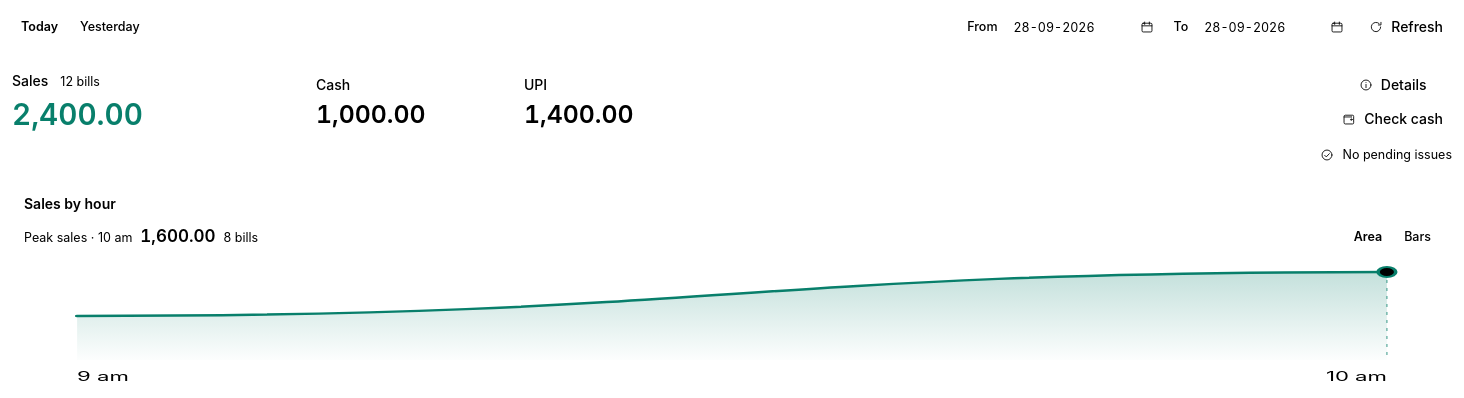
Test case: keeps the chart mounted during refresh and replaces figures when the request finishes
Expected: the text "2,400.00" is shown, 12,96 -> 143,132
Click the button "Bars".
click(1418, 237)  # box 1395,222 -> 1440,252
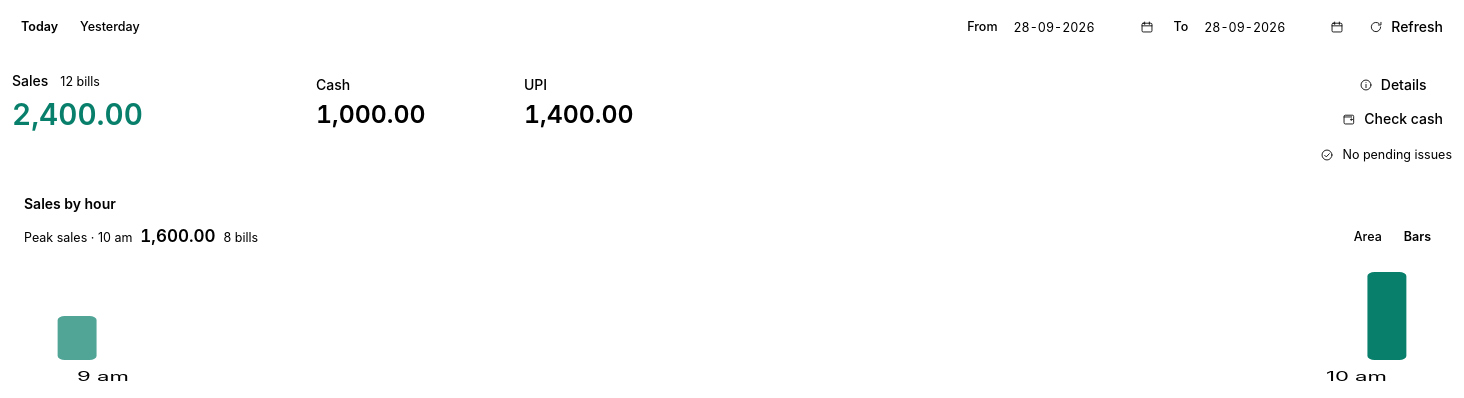
Click the button "Refresh".
click(1406, 27)  # box 1360,12 -> 1452,42
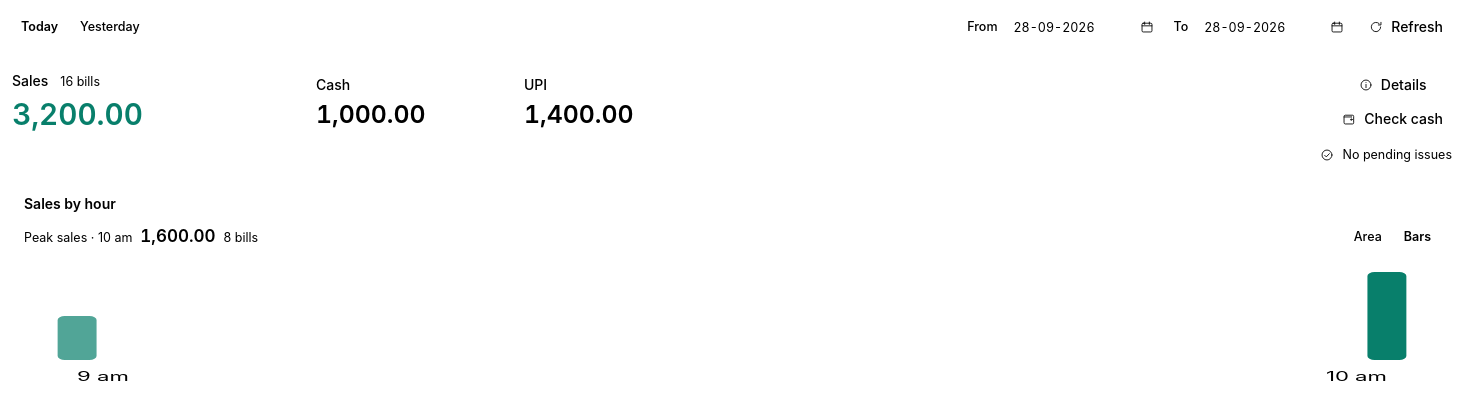
Expected: the text "Updating figures…" is shown, 1320,146 -> 1452,165
Result: the text "3,200.00" is shown at 12,96 -> 143,132
